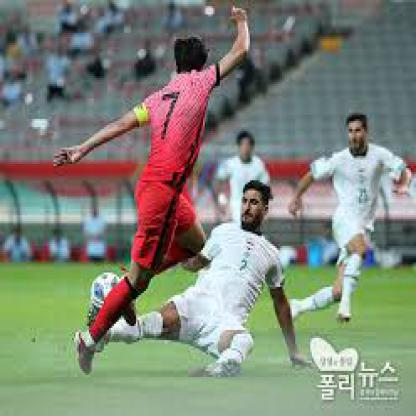Fall_Down: (87, 180, 311, 378)
